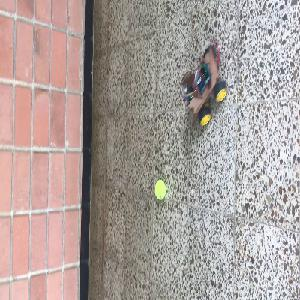Ball: (154, 179, 166, 201)
Robot: (178, 47, 228, 126)
